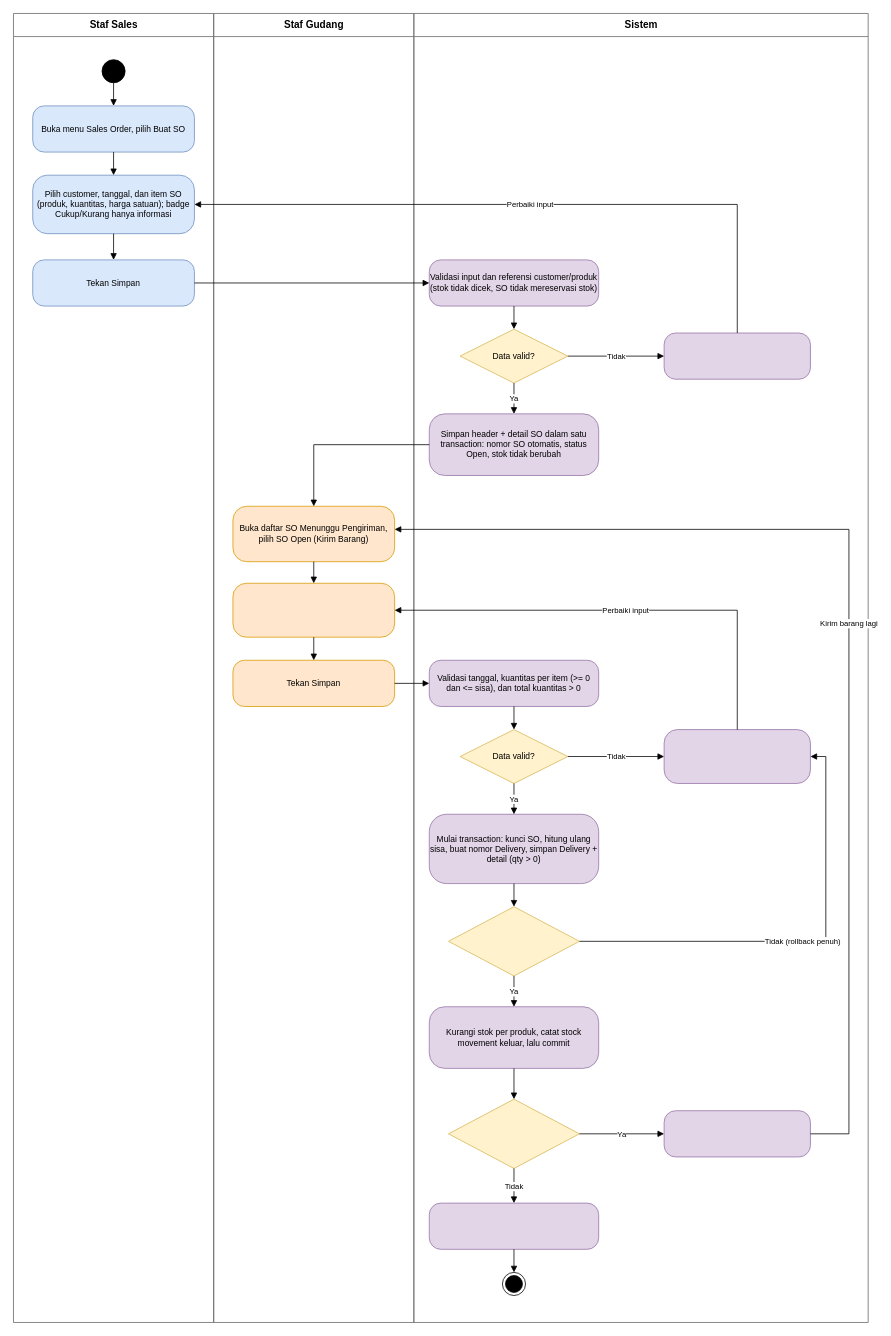
Some shapes in this 891 by 1336 pixel diagram are drawn without their labels. The shapes that lost their labels are listed below. From the top down, each one's centre as x and y in pixels, then its label:
the point at 736,355: Tampilkan pesan error, isian lama dipertahankan
the point at 313,610: Isi tanggal pengiriman dan kuantitas dikirim per item (maks. sebesar sisa)
the point at 736,756: Tampilkan pesan error (validasi atau stok tidak mencukupi), isian dipertahankan
the point at 513,941: Stok aktual semua produk cukup?
the point at 513,1133: Masih ada sisa kuantitas SO?
the point at 736,1133: SO tetap Open, menunggu pengiriman berikutnya (bertahap)
the point at 514,1225: SO terkirim penuh (sisa = 0), keluar dari daftar SO Menunggu Pengiriman
